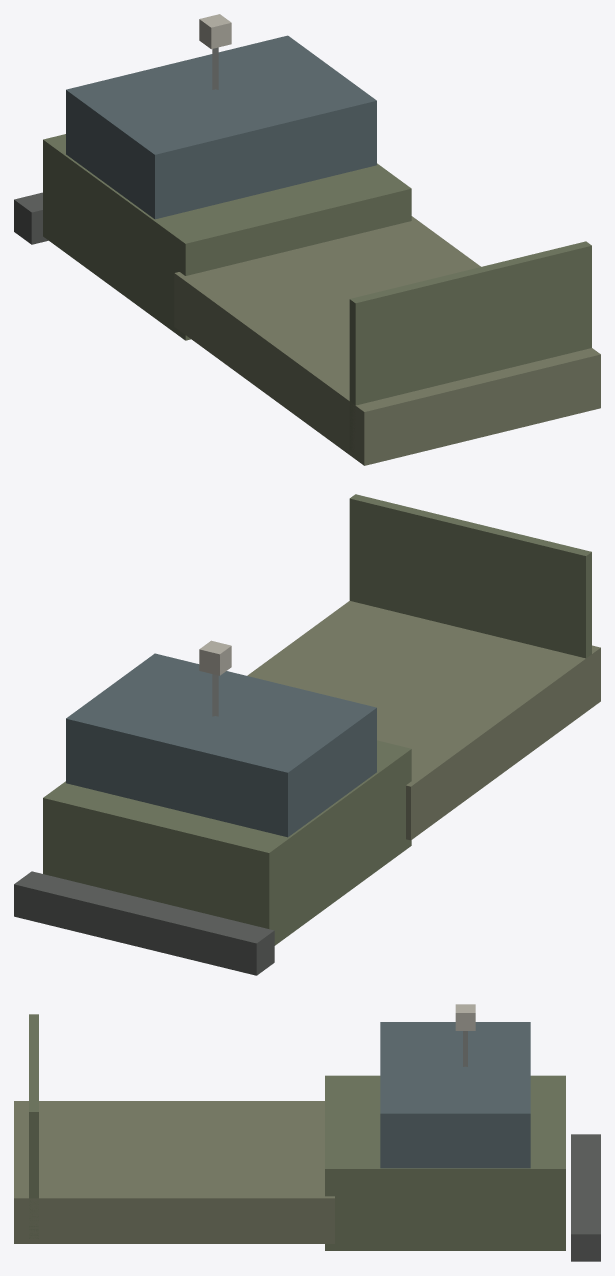
The model's file is v_gaz66.glb.
3 renders of one model, top to bottom at view 1: azimuth 30°, elevation 25°; view 2: azimuth 150°, elevation 25°; view 3: azimuth 270°, elevation 25°, orthographic. The views are drawn at different scales.
Visible parts, largest first — view 1: body; view 2: body; view 3: body.
Part boxes in pixels (box(x1,y1,x2,y2)): body: box(14, 14, 600, 465); body: box(14, 494, 600, 975); body: box(14, 1004, 600, 1261).
Bounding box in the file's own units: 2.36 × 2.23 × 5.85.
